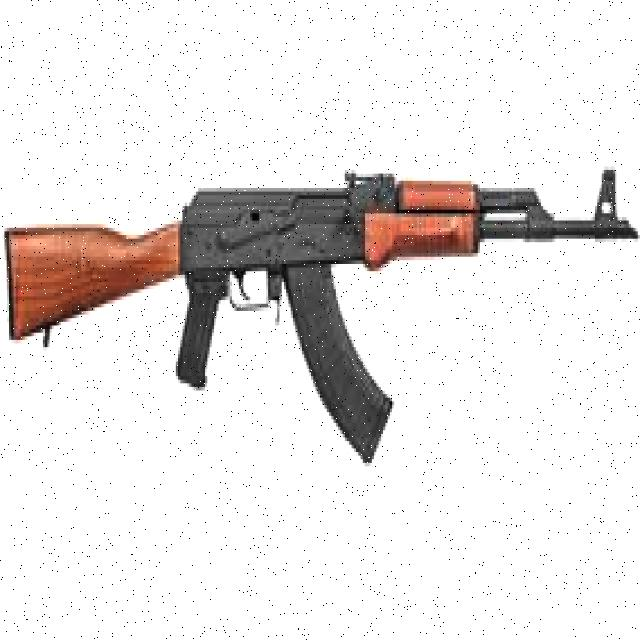AK-47 Gun: (2, 167, 637, 469)
